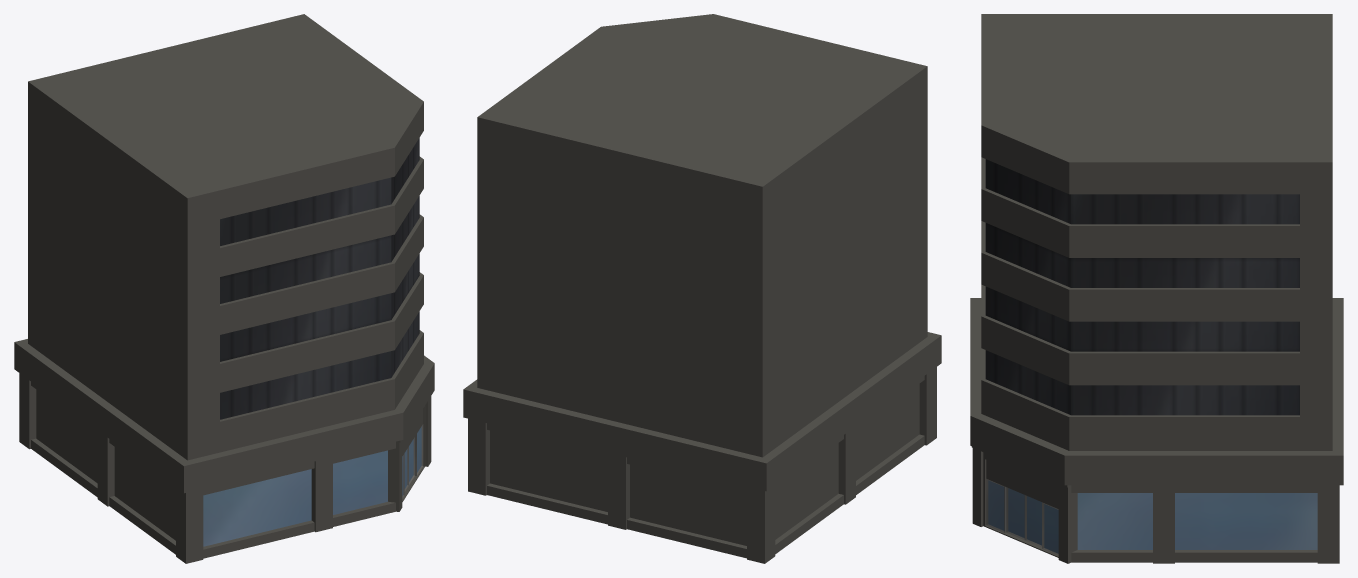
The model's file is Bld_Building_KA.fbx.
3 views of the same model, side by side, from view 1: azimuth 30°, elevation 25°; view 2: azimuth 150°, elevation 25°; view 3: azimuth 270°, elevation 25° (orthographic). The views are drawn at different scales.
Visible parts, largest first — view 1: Bld_Building_KA; view 2: Bld_Building_KA; view 3: Bld_Building_KA.
Boxes of the visible parts, <box> form: Bld_Building_KA: <box>14,14,434,563</box>; Bld_Building_KA: <box>463,14,941,563</box>; Bld_Building_KA: <box>970,14,1343,563</box>.
Bounding box in the file's own units: 1700 × 2000 × 1700.
